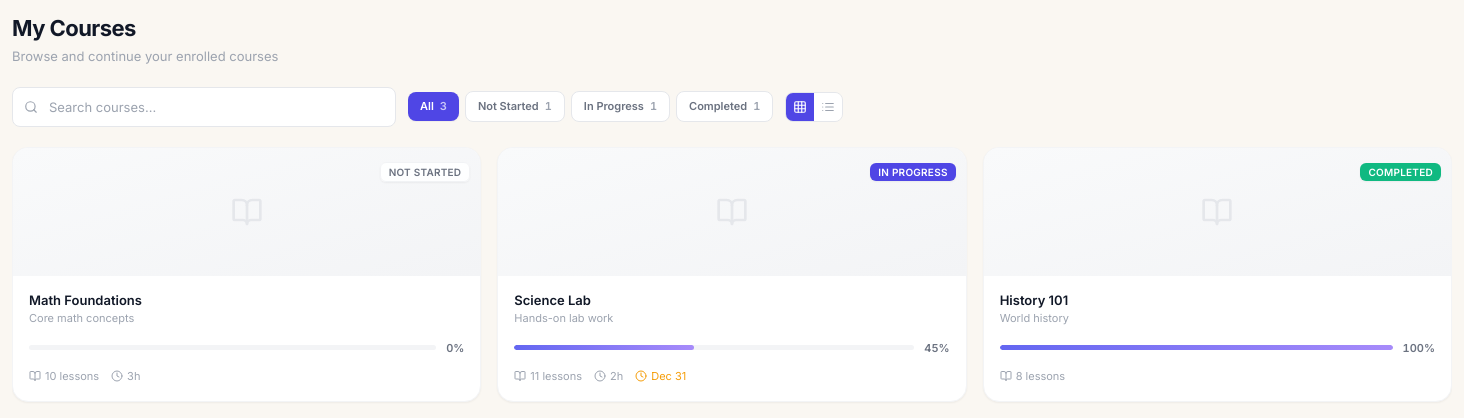
CourseListPage › status filter — Not Started › shows only Math Foundations and hides other courses
The image size is (1464, 418).
Expected: the heading "Math Foundations" is shown, left=29, top=292, right=142, bottom=308
Click the button "Not Started1" at (515, 107), box left=465, top=91, right=565, bottom=122
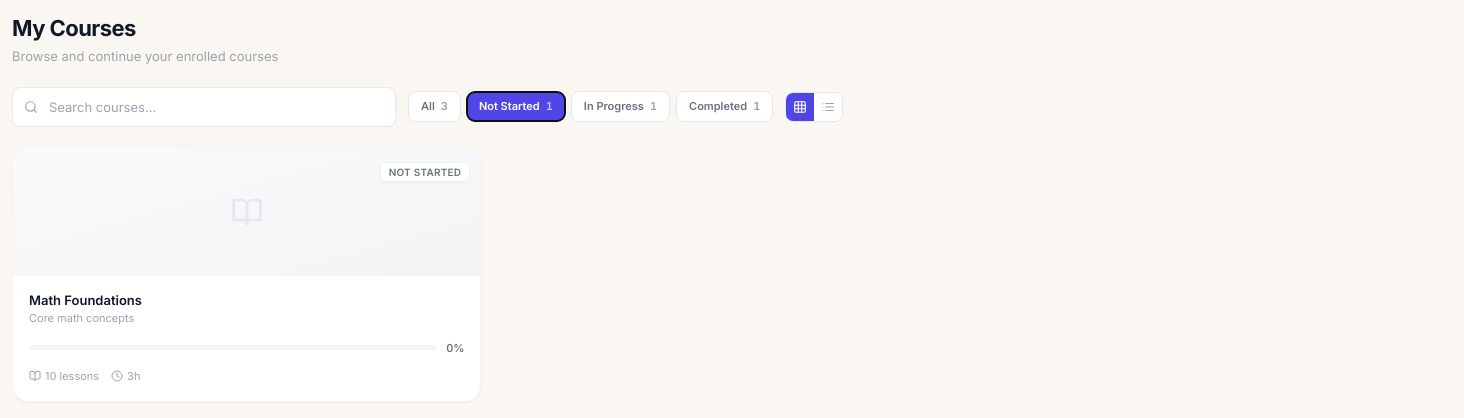
Expected: the heading "Math Foundations" is shown, left=29, top=292, right=142, bottom=308
Now the button "Science Lab" is gone
Now the button "History 101" is gone
